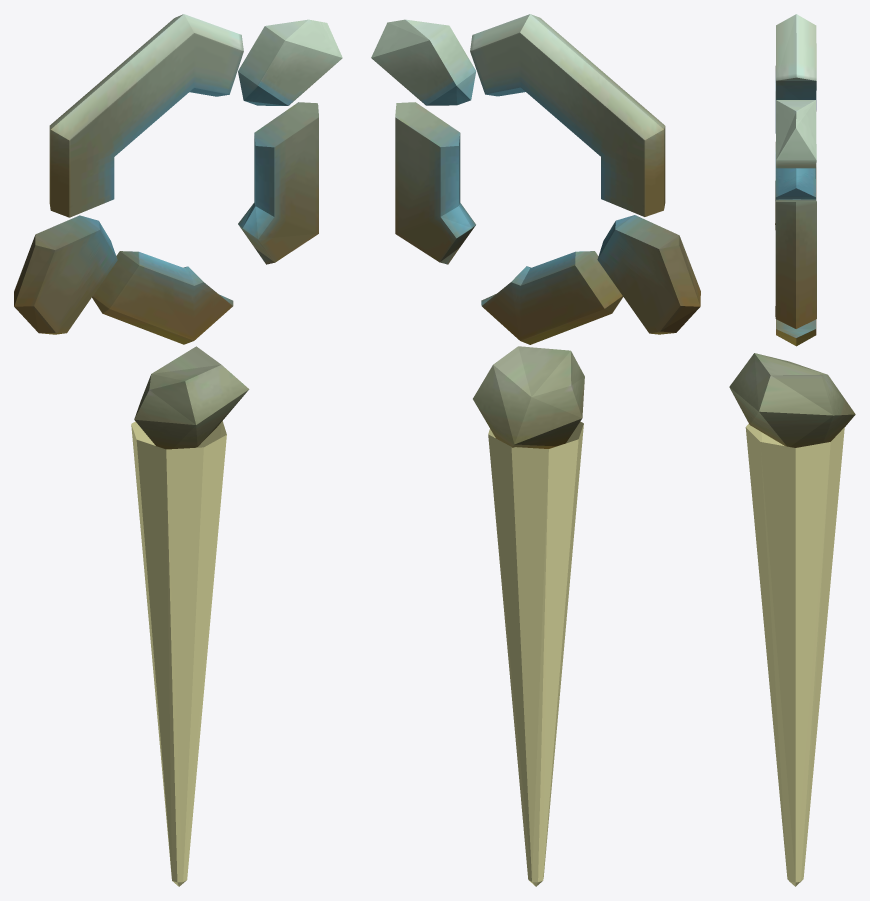
Rendered from portal.fbx.
The picture shows the model from 3 angles, left to right: view 1: azimuth 30°, elevation 25°; view 2: azimuth 150°, elevation 25°; view 3: azimuth 270°, elevation 25°; orthographic projection.
Visible parts, largest first — view 1: portal, ray_low; view 2: portal, ray_low; view 3: ray_low, portal.
Part boxes in pixels (bbox=[...]): portal: bbox=[14, 14, 342, 449]; ray_low: bbox=[131, 421, 226, 886]; portal: bbox=[371, 14, 700, 448]; ray_low: bbox=[488, 421, 583, 886]; ray_low: bbox=[745, 424, 844, 886]; portal: bbox=[729, 14, 855, 447].
Bounding box in the file's own units: 18.11 × 47.27 × 6.19.
2 materials, 1 textured.
